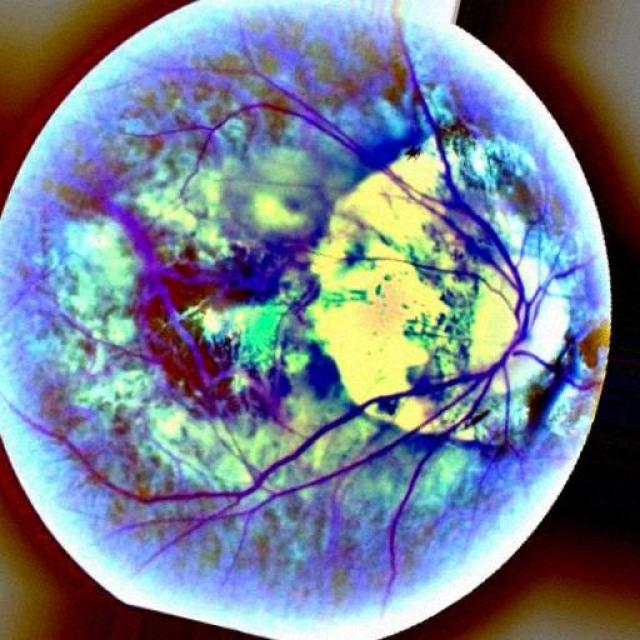Nerves: (11, 24, 591, 606), (91, 178, 321, 409)
Optic Disk: (305, 132, 570, 442)
